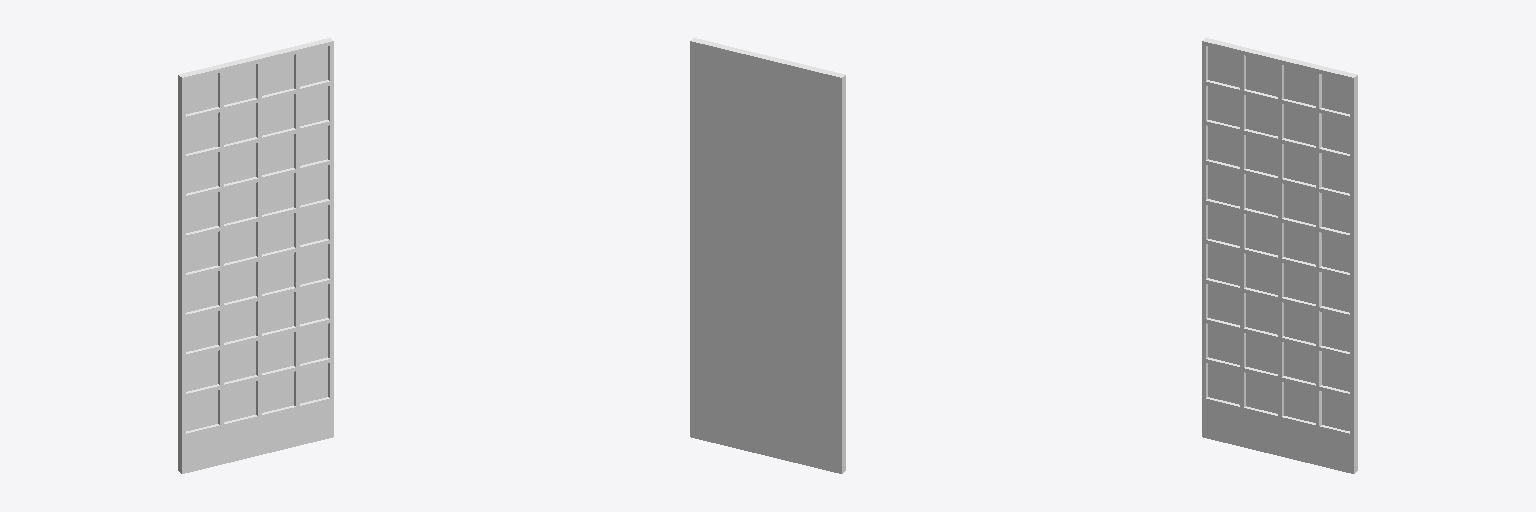
File: Environment-0.obj
3 renders of one model, left to right at view 1: azimuth 30°, elevation 25°; view 2: azimuth 150°, elevation 25°; view 3: azimuth 330°, elevation 25°, orthographic.
Visible parts, largest first — view 1: object 1; view 2: object 1; view 3: object 1.
Boxes of the visible parts, x1,y1,x2,y2 form: object 1: [178, 38, 333, 473]; object 1: [690, 38, 845, 473]; object 1: [1202, 38, 1357, 473].
Bounding box in the file's own units: 4 × 10 × 0.2.